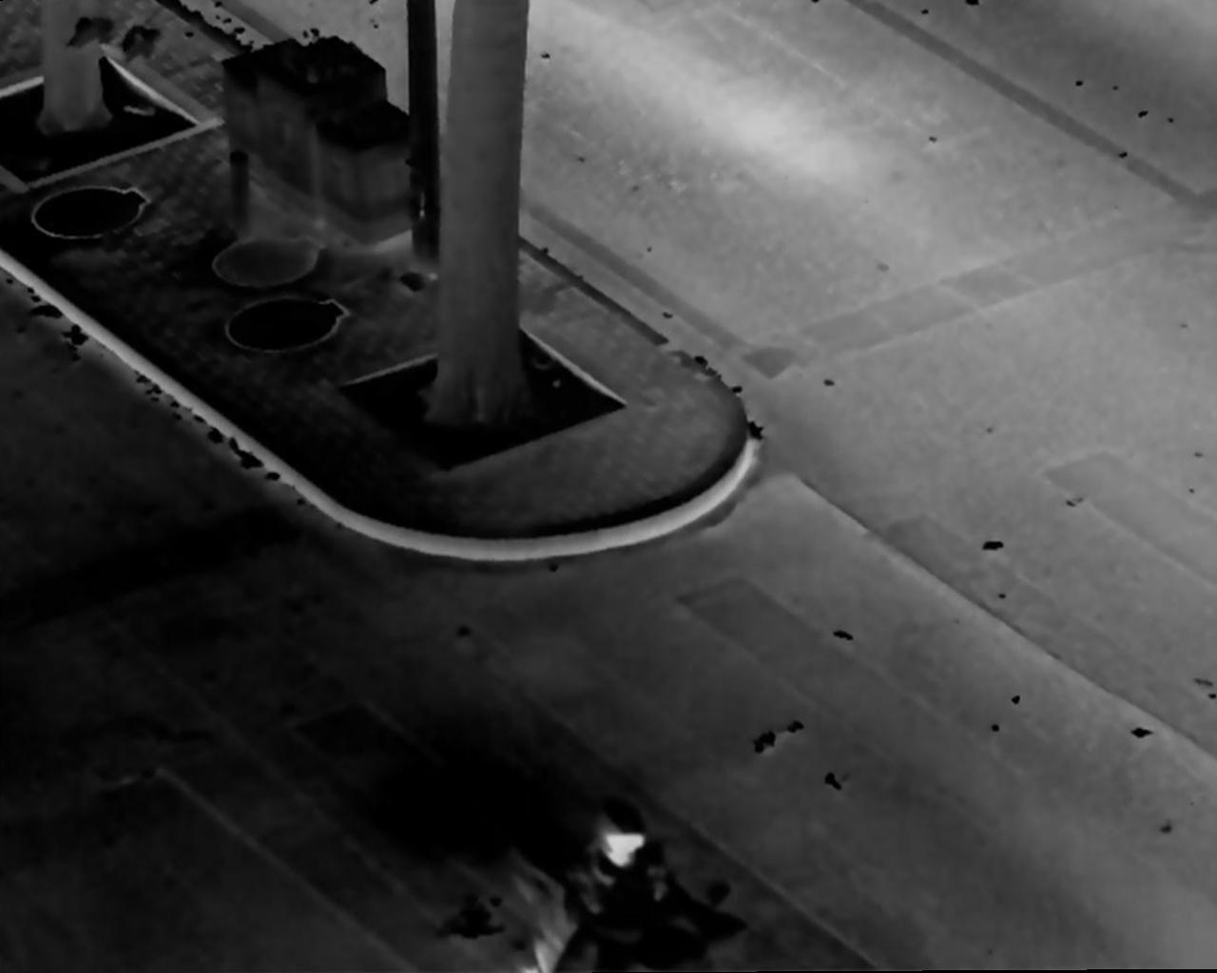person: (522, 804, 668, 973)
